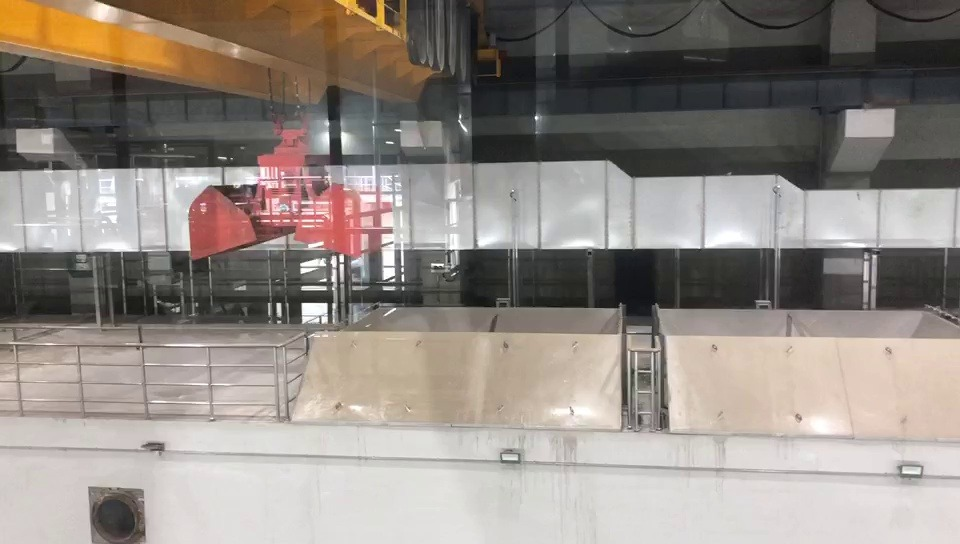grab: (184, 108, 370, 262)
